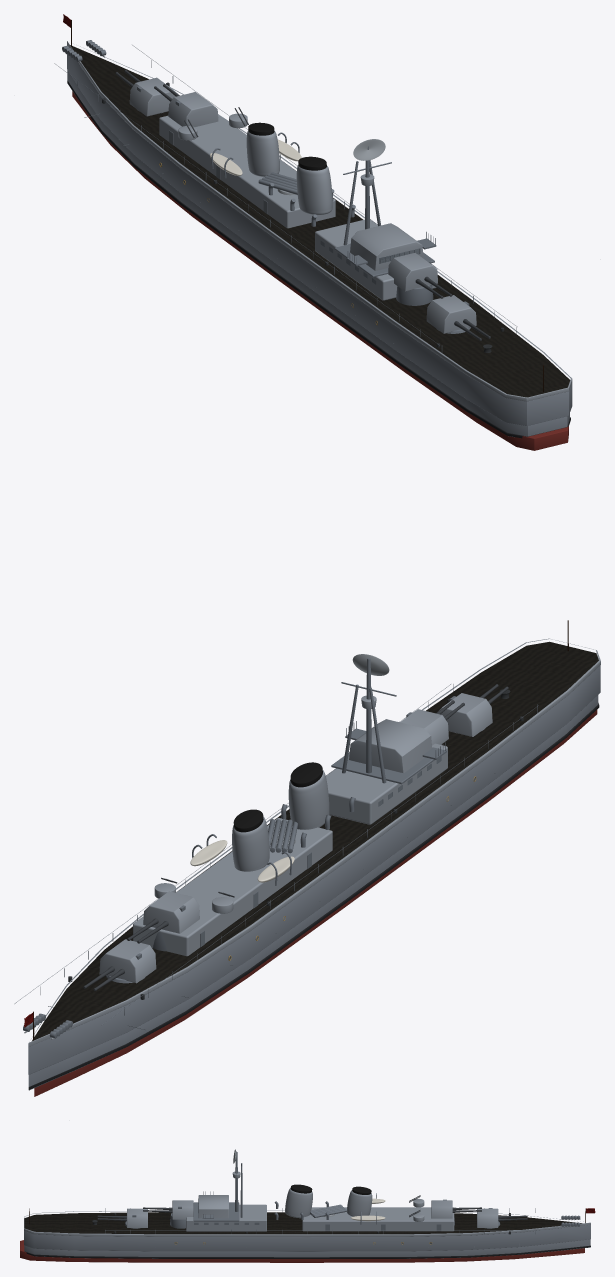
The model's file is destroyer.glb.
3 views of the same model, one above another, from view 1: azimuth 30°, elevation 25°; view 2: azimuth 150°, elevation 25°; view 3: azimuth 270°, elevation 25° (orthographic). The views are drawn at different scales.
Parts seen in each view (by area): view 1: deck, hull_upper, aft_house, shield (×4), hull_mid, gunwale, hull_low, fwd_house, bridge, boot_top, funnel_fwd, funnel_aft (+1 smaller); view 2: deck, hull_upper, aft_house, hull_mid, shield (×4), gunwale, fwd_house, hull_low, bridge, boot_top, funnel_fwd, funnel_aft (+1 smaller); view 3: hull_upper, deck, hull_mid, aft_house, hull_low, gunwale, shield (×4), fwd_house, boot_top, bridge, funnel_fwd, funnel_aft (+3 smaller).
Part boxes in pixels (box(x1,y1,x2,y2)): deck: box(70, 45, 570, 397); hull_upper: box(67, 45, 572, 425); aft_house: box(159, 114, 335, 228); shield (×4): box(129, 77, 476, 333); hull_mid: box(67, 70, 569, 437); gunwale: box(67, 41, 572, 401); hull_low: box(72, 91, 568, 450); fwd_house: box(315, 219, 437, 300); bridge: box(350, 223, 423, 270); boot_top: box(67, 81, 570, 438); funnel_fwd: box(296, 164, 332, 214); funnel_aft: box(246, 131, 279, 176); deck: box(32, 641, 598, 1040); hull_upper: box(28, 656, 600, 1074); aft_house: box(133, 817, 332, 956); hull_mid: box(28, 695, 598, 1090); shield (×4): box(99, 693, 492, 983); gunwale: box(28, 638, 600, 1046); fwd_house: box(325, 743, 447, 824); hull_low: box(34, 709, 597, 1096); bridge: box(349, 719, 432, 773); boot_top: box(28, 703, 599, 1089); funnel_fwd: box(288, 770, 329, 829); funnel_aft: box(232, 816, 269, 871); hull_upper: box(24, 1225, 590, 1251); deck: box(24, 1212, 582, 1234); hull_mid: box(24, 1239, 590, 1258); aft_house: box(302, 1207, 454, 1231); hull_low: box(20, 1240, 584, 1262); gunwale: box(24, 1210, 590, 1237); shield (×4): box(127, 1200, 498, 1227); fwd_house: box(186, 1204, 266, 1231); boot_top: box(24, 1245, 590, 1258); bridge: box(198, 1195, 228, 1218); funnel_fwd: box(285, 1188, 312, 1218); funnel_aft: box(347, 1190, 372, 1216).
Bounding box in the file's own units: 0.2022 × 0.3903 × 1.95.
Materials: 265 (4 with a texture image).
